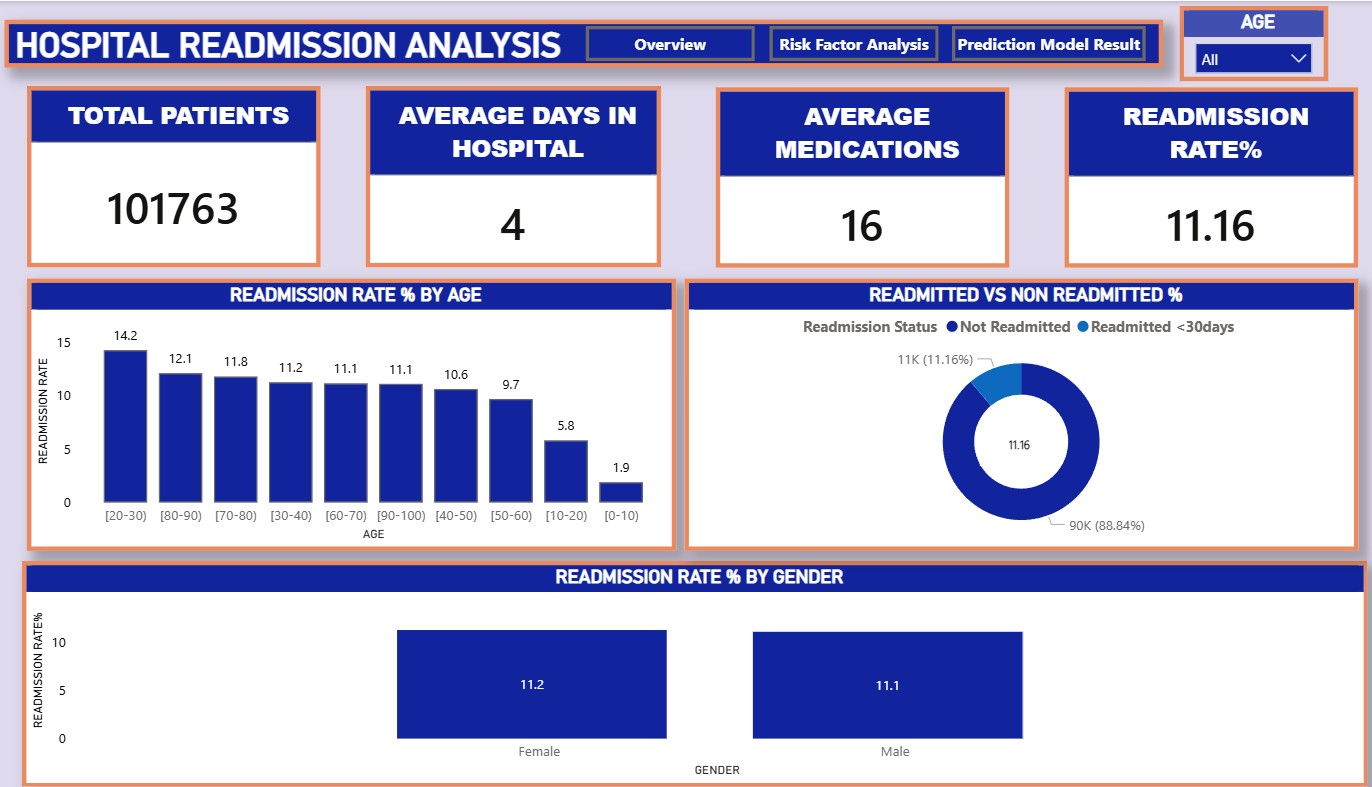

This screenshot's page, from the dashboard's own definition file:
{"tool":"powerbi","page":{"name":"Page 1","canvas":[1280,720],"ordinal":0},"visuals":[{"type":"cardVisual","title":"TOTAL PATIENTS","fields":{"Data":["Diabetic_cleaned.Total Patients"]},"box":[36.2,76.9,265.7,163.9],"z":0},{"type":"cardVisual","title":"AVERAGE DAYS IN HOSPITAL","fields":{"Data":["Diabetic_cleaned.Avg Days in Hospital"]},"box":[342.6,76.9,266.8,163.9],"z":1000},{"type":"cardVisual","title":"READMISSION RATE%","fields":{"Data":["Diabetic_cleaned.Readmission Rate %"]},"box":[974.6,78,265.7,162.8],"z":2000},{"type":"cardVisual","title":"AVERAGE MEDICATIONS","fields":{"Data":["Diabetic_cleaned.Avg Medications"]},"box":[659.2,78,265.7,162.8],"z":3000},{"type":"clusteredColumnChart","title":"READMISSION RATE % BY AGE","fields":{"Category":["Diabetic_cleaned.age"],"Y":["Diabetic_cleaned.Readmission Rate %"]},"box":[36.2,251,586.8,246.5],"z":4000},{"type":"slicer","title":"AGE","fields":{"Values":["Diabetic_cleaned.age"]},"box":[1079.2,4.2,134.2,68.3],"z":5000},{"type":"columnChart","title":"READMISSION RATE % BY GENDER","fields":{"Category":["Diabetic_cleaned.gender"],"Y":["Diabetic_cleaned.Readmission Rate %"]},"box":[31.4,507,1217.4,204.7],"z":6000},{"type":"donutChart","title":"READMITTED VS NON READMITTED %","fields":{"Category":["Diabetic_cleaned.Readmission Status"],"Y":["Diabetic_cleaned.Total Patients"]},"box":[630.9,251,609.4,246.5],"z":7000},{"type":"textbox","title":"HOSPITAL READMISSION ANALYSIS","box":[15.7,16.5,1047.8,43.5],"z":8000},{"type":"cardVisual","fields":{"Data":["Diabetic_cleaned.Readmission Rate %"]},"box":[893.8,373.8,81.2,51.2],"z":9000},{"type":"actionButton","title":"Overview","box":[541.7,22.6,153,31.7],"z":9001},{"type":"actionButton","title":"Overview","box":[707.4,22.6,153,31.7],"z":9002},{"type":"actionButton","title":"Overview","box":[873,22.2,175.2,31.7],"z":9003}]}

Visuals, with their boxes in screenshot pixels (x1, y1, x2, y2), scaled from the page's 1280x720 canvas onto the 1372x787 screenshot:
"TOTAL PATIENTS" cardVisual: (x1=39, y1=84, x2=324, y2=263)
"AVERAGE DAYS IN HOSPITAL" cardVisual: (x1=367, y1=84, x2=653, y2=263)
"READMISSION RATE%" cardVisual: (x1=1045, y1=85, x2=1329, y2=263)
"AVERAGE MEDICATIONS" cardVisual: (x1=707, y1=85, x2=991, y2=263)
"READMISSION RATE % BY AGE" clusteredColumnChart: (x1=39, y1=274, x2=668, y2=544)
"AGE" slicer: (x1=1157, y1=5, x2=1301, y2=79)
"READMISSION RATE % BY GENDER" columnChart: (x1=34, y1=554, x2=1339, y2=778)
"READMITTED VS NON READMITTED %" donutChart: (x1=676, y1=274, x2=1329, y2=544)
"HOSPITAL READMISSION ANALYSIS" textbox: (x1=17, y1=18, x2=1140, y2=66)
cardVisual - Diabetic_cleaned.Readmission Rate %: (x1=958, y1=409, x2=1045, y2=465)
"Overview" actionButton: (x1=581, y1=25, x2=745, y2=59)
"Overview" actionButton: (x1=758, y1=25, x2=922, y2=59)
"Overview" actionButton: (x1=936, y1=24, x2=1124, y2=59)
